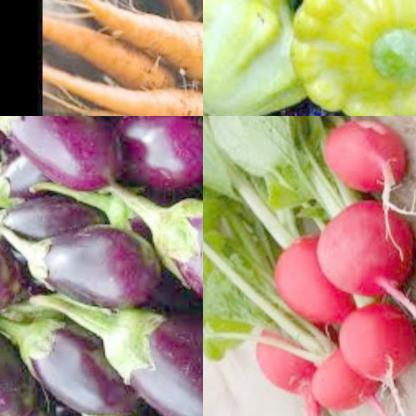carrot: (48, 0, 203, 106), (42, 0, 177, 98), (42, 59, 203, 116)
eggplant: (76, 290, 203, 416), (0, 304, 142, 416), (110, 169, 203, 340), (0, 218, 146, 313), (0, 116, 131, 199), (0, 179, 119, 259), (104, 116, 203, 211), (0, 323, 36, 416), (0, 220, 23, 323)
rediska: (312, 198, 416, 297), (268, 230, 355, 328), (321, 116, 416, 197), (332, 296, 416, 382), (249, 320, 326, 406), (306, 336, 380, 414)
squash-patisson: (285, 0, 416, 116), (203, 0, 303, 116)
